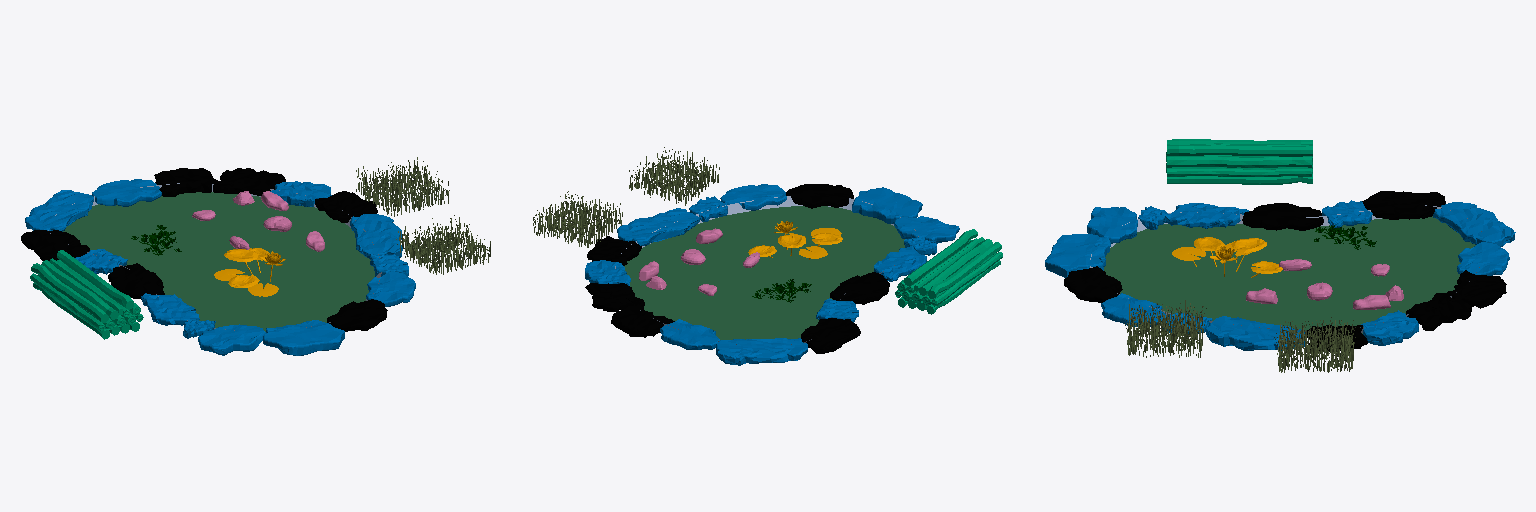
URDF robot description (object):
<?xml version="1.0"?>
<robot name="object">
  <link name="base_link"> <!-- required name-->
    <inertial>
      <origin xyz="0 0 0" /> 
      <mass value="1.0" />
      <inertia  ixx="1.0" ixy="0.0"  ixz="0.0"  iyy="1.0"  iyz="0.0"  izz="100.0" />
    </inertial>
    <visual>
      <origin xyz="0 0 0"/>
      <geometry>
        <mesh filename="package://animals_description/meshes/waterLily2.dae"/>
      </geometry>
    </visual>
    <collision>
      <origin xyz="0 0 0"/>
      <geometry>
        <mesh filename="package://animals_description/meshes/waterLily2.dae"/>
      </geometry>
    </collision>
  </link>

  <joint name="j_decor_one" type="fixed">
    <parent link="base_link"/>
    <child link="l_decor_one"/>
    <origin rpy="0 0 0" xyz="0 0 0"/>
  </joint>
        
  <link name="l_decor_one">
    <visual>
      <origin xyz="3 0 0"/>
      <geometry>
        <mesh filename="package://animals_description/meshes/arbre.dae"/>
      </geometry>
      <material name="Green"/>
    </visual>
    <collision>
      <origin xyz="3 0 0"/>
      <geometry>
        <mesh filename="package://animals_description/meshes/arbre.dae"/>
      </geometry>
    </collision>
  </link>

  <joint name="j_decor_two" type="fixed">
    <parent link="base_link"/>
    <child link="l_decor_two"/>
    <origin rpy="0 0 0" xyz="0 0 0"/>
  </joint>
        
  <link name="l_decor_two">
    <visual>
      <origin xyz="-3.5 -1 0"/>
      <geometry>
        <mesh filename="package://animals_description/meshes/wood_stack.dae"/>
      </geometry>
      <material name="Green"/>
    </visual>
    <collision>
      <origin xyz="-3.5 -1 0"/>
      <geometry>
        <mesh filename="package://animals_description/meshes/wood_stack.dae"/>
      </geometry>
    </collision>
  </link>

  <joint name="j_decor_three" type="fixed">
    <parent link="base_link"/>
    <child link="l_decor_three"/>
    <origin rpy="0 0 0" xyz="0 0 0"/>
  </joint>
        
  <link name="l_decor_three">
    <visual>
      <origin xyz="-1 2 0"/>
      <geometry>
        <mesh filename="package://animals_description/meshes/bush.dae"/>
      </geometry>
      <material name="Green"/>
    </visual>
    <collision>
      <origin xyz="-1 2 0"/>
      <geometry>
        <mesh filename="package://animals_description/meshes/bush.dae"/>
      </geometry>
    </collision>
  </link>

  <joint name="j_decor_four" type="fixed">
    <parent link="base_link"/>
    <child link="l_decor_four"/>
    <origin rpy="0 0 0" xyz="0 0 0"/>
  </joint>
        
  <link name="l_decor_four">
    <visual>
      <origin xyz="0 1 0"/>
      <geometry>
        <mesh filename="package://animals_description/meshes/etang2.dae"/>
      </geometry>
      <material name="Green"/>
    </visual>
    <collision>
      <origin xyz="0 1 0"/>
      <geometry>
        <mesh filename="package://animals_description/meshes/etang2.dae"/>
      </geometry>
    </collision>
  </link>

  <joint name="j_decor_five" type="fixed">
    <parent link="base_link"/>
    <child link="l_decor_five"/>
    <origin rpy="0 0 0" xyz="0 0 0"/>
  </joint>
        
  <link name="l_decor_five">
    <visual>
      <origin xyz="3 -1 0"/>
      <geometry>
        <mesh filename="package://animals_description/meshes/grass.dae"/>
      </geometry>
      <material name="Green"/>
    </visual>
    <collision>
      <origin xyz="3 -1 0"/>
      <geometry>
        <mesh filename="package://animals_description/meshes/grass.dae"/>
      </geometry>
    </collision>
  </link>

  <joint name="j_decor_six" type="fixed">
    <parent link="base_link"/>
    <child link="l_decor_six"/>
    <origin rpy="0 0 0" xyz="0 0 0"/>
  </joint>
        
  <link name="l_decor_six">
    <visual>
      <origin xyz="1 2 -0.05"/>
      <geometry>
        <mesh filename="package://animals_description/meshes/stones3.dae"/>
      </geometry>
      <material name="Green"/>
    </visual>
    <collision>
      <origin xyz="1 2 -0.05"/>
      <geometry>
        <mesh filename="package://animals_description/meshes/stones3.dae"/>
      </geometry>
    </collision>
  </link>
  
  <joint name="j_decor_seven" type="fixed">
    <parent link="base_link"/>
    <child link="l_decor_seven"/>
    <origin rpy="0 0 0" xyz="0 0 0"/>
  </joint>
        
  <link name="l_decor_seven"> <!-- another grass -->
    <visual>
      <origin xyz="3.6 1.5 0"/>
      <geometry>
        <mesh filename="package://animals_description/meshes/grass.dae"/>
      </geometry>
      <material name="Green"/>
    </visual>
    <collision>
      <origin xyz="3.6 1.5 0"/>
      <geometry>
        <mesh filename="package://animals_description/meshes/grass.dae"/>
      </geometry>
    </collision>
  </link>
</robot>

--- What the picture shows (computed from the rendered views, not written in the file) ---
The picture shows the robot from 3 angles, left to right: view 1: azimuth 30°, elevation 25°; view 2: azimuth 150°, elevation 25°; view 3: azimuth 270°, elevation 25°; orthographic projection.
Model object with 8 links and 7 joints (7 fixed), rooted at base_link, posed every joint at zero.
Links seen in each view (by area): view 1: l_decor_four, l_decor_two, l_decor_five, l_decor_seven, l_decor_six, base_link; view 2: l_decor_four, l_decor_two, l_decor_seven, l_decor_five, base_link, l_decor_six; view 3: l_decor_four, l_decor_two, l_decor_seven, l_decor_five, l_decor_six, base_link, l_decor_three.
Link boxes in pixels (x1,y1,x2,y2): l_decor_four: (21, 168, 415, 355); l_decor_two: (30, 250, 143, 339); l_decor_five: (396, 215, 490, 274); l_decor_seven: (356, 157, 449, 216); l_decor_six: (192, 191, 324, 251); base_link: (214, 248, 285, 296); l_decor_four: (585, 184, 959, 365); l_decor_two: (895, 229, 1002, 314); l_decor_seven: (533, 191, 622, 247); l_decor_five: (629, 147, 719, 205); base_link: (748, 221, 842, 259); l_decor_six: (639, 228, 759, 295); l_decor_four: (1045, 191, 1515, 351); l_decor_two: (1166, 139, 1312, 184); l_decor_seven: (1274, 317, 1355, 372); l_decor_five: (1124, 300, 1206, 357); l_decor_six: (1246, 259, 1403, 309); base_link: (1172, 237, 1282, 277); l_decor_three: (1314, 225, 1376, 249).
Size in the robot's own frame: 8.24 by 7.82 by 1.22 metres.
7 mesh visuals loaded from 7 distinct referenced files (6 Collada DAE); not drawn: 1 (reference not matched to a file when rendering).
